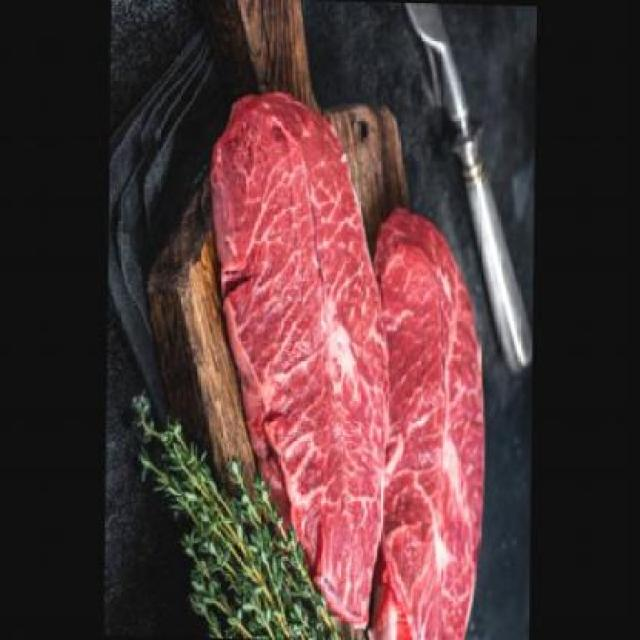beef: (207, 82, 393, 626), (364, 204, 491, 638)
